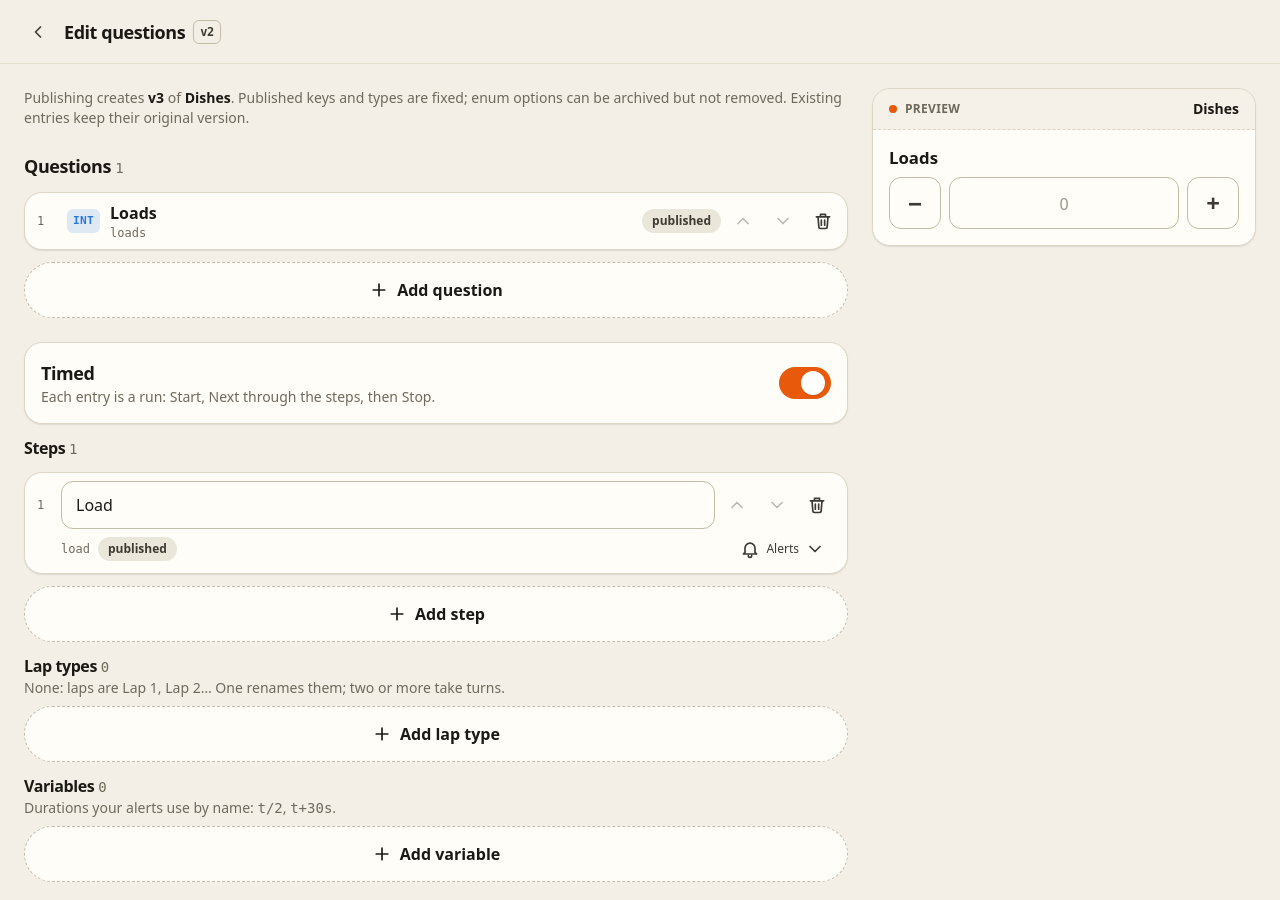
Test case: EditQuestionsPage publish › switching Timed off sends null, and back on restores the steps
This screenshot has width=1280, height=900.
What coordinates should you click on to do the following:
click the switch named "Timed"
I would click on:
 (805, 383)
Its box is [779, 367, 831, 399].
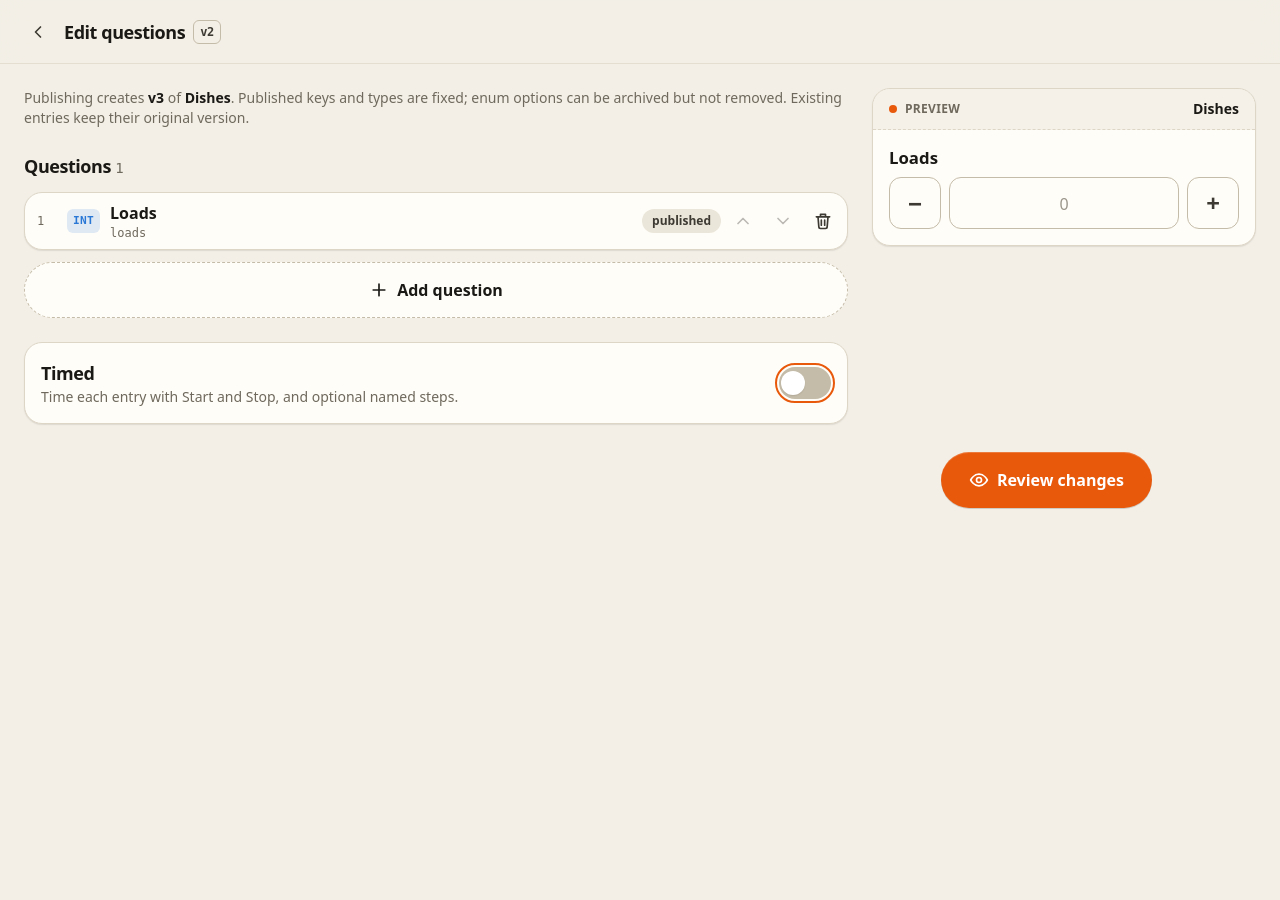
What coordinates should you click on to do the following:
click the switch named "Timed"
I would click on:
 (805, 383)
Its box is [779, 367, 831, 399].
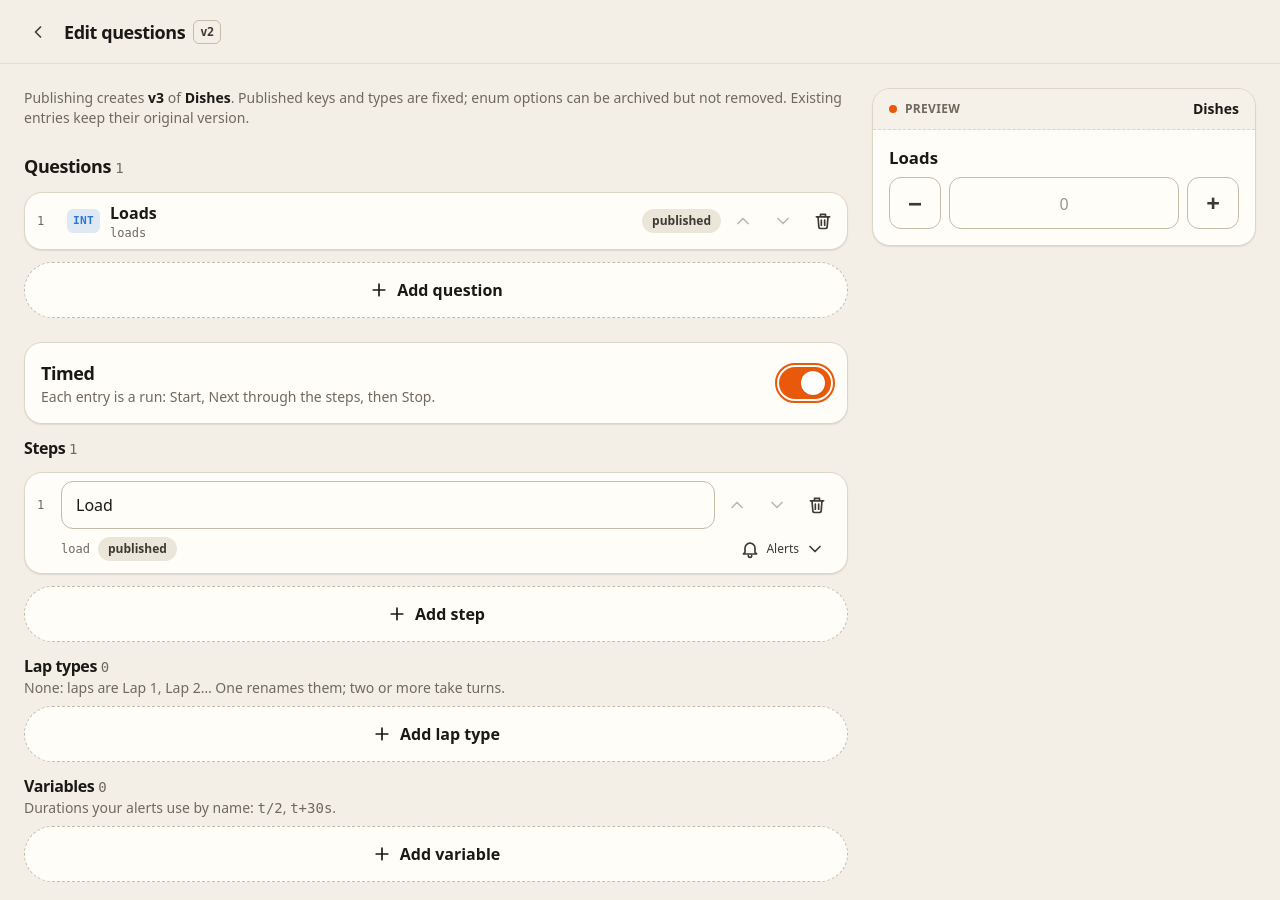
Check: the field named "Step 1 name" holds "Load", box [61, 481, 715, 529]
What coordinates should you click on to do the following:
click the switch named "Timed"
I would click on:
 (805, 383)
Its box is [779, 367, 831, 399].
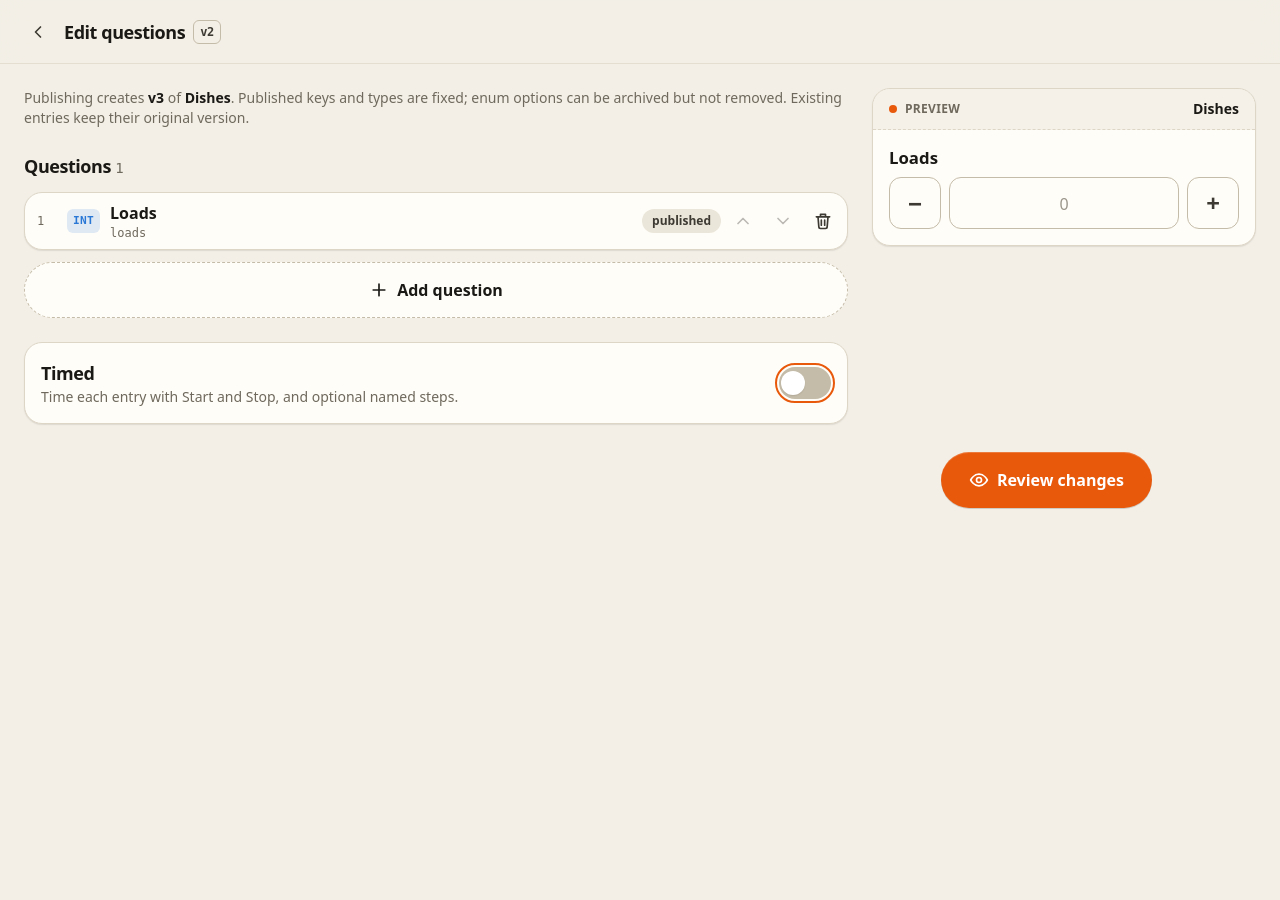
What coordinates should you click on to do the following:
click the button "Review changes"
I would click on:
 (1046, 480)
Its box is [941, 452, 1152, 508].
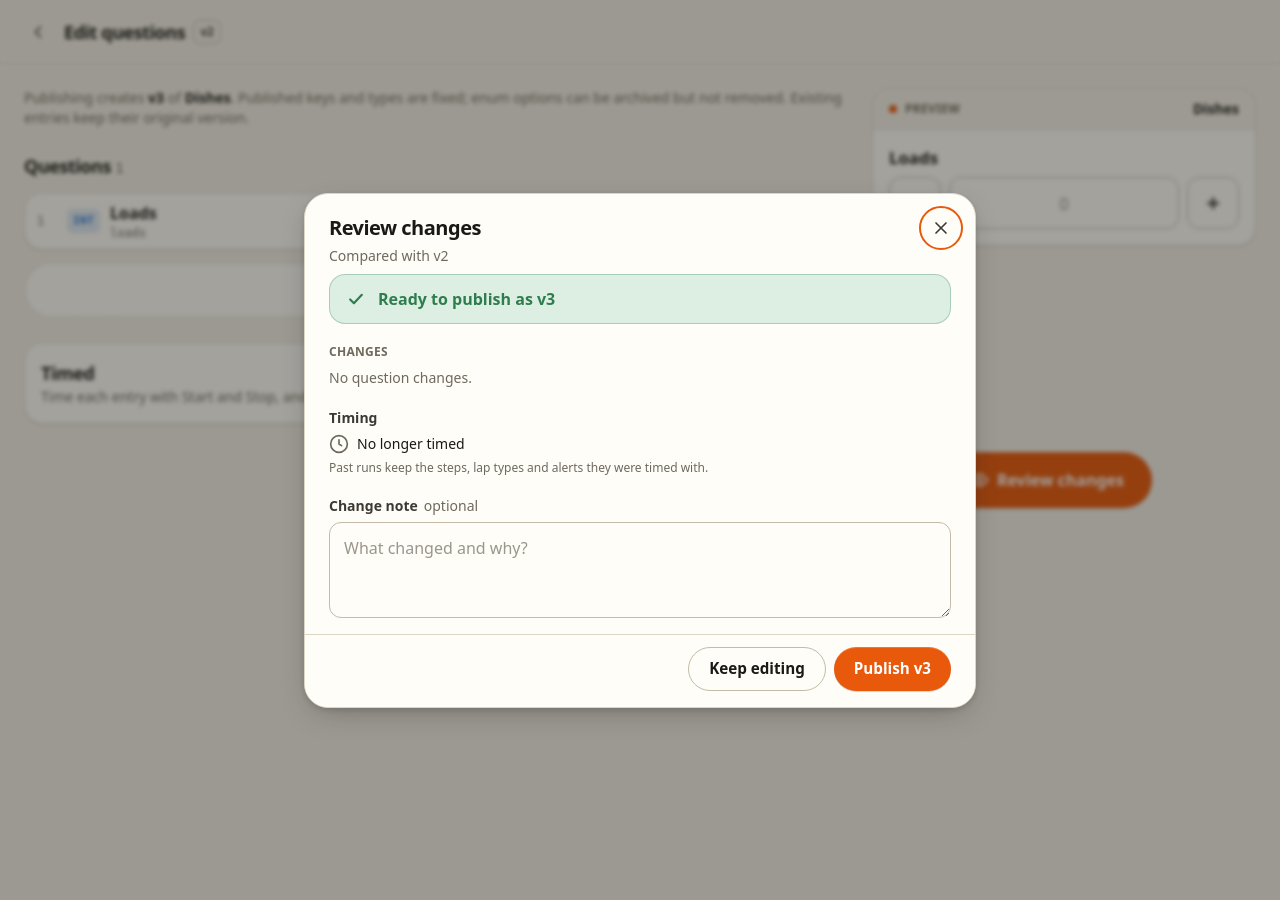
What coordinates should you click on to do the following:
click the button "Publish v3"
I would click on:
 (892, 668)
Its box is [834, 646, 951, 690].
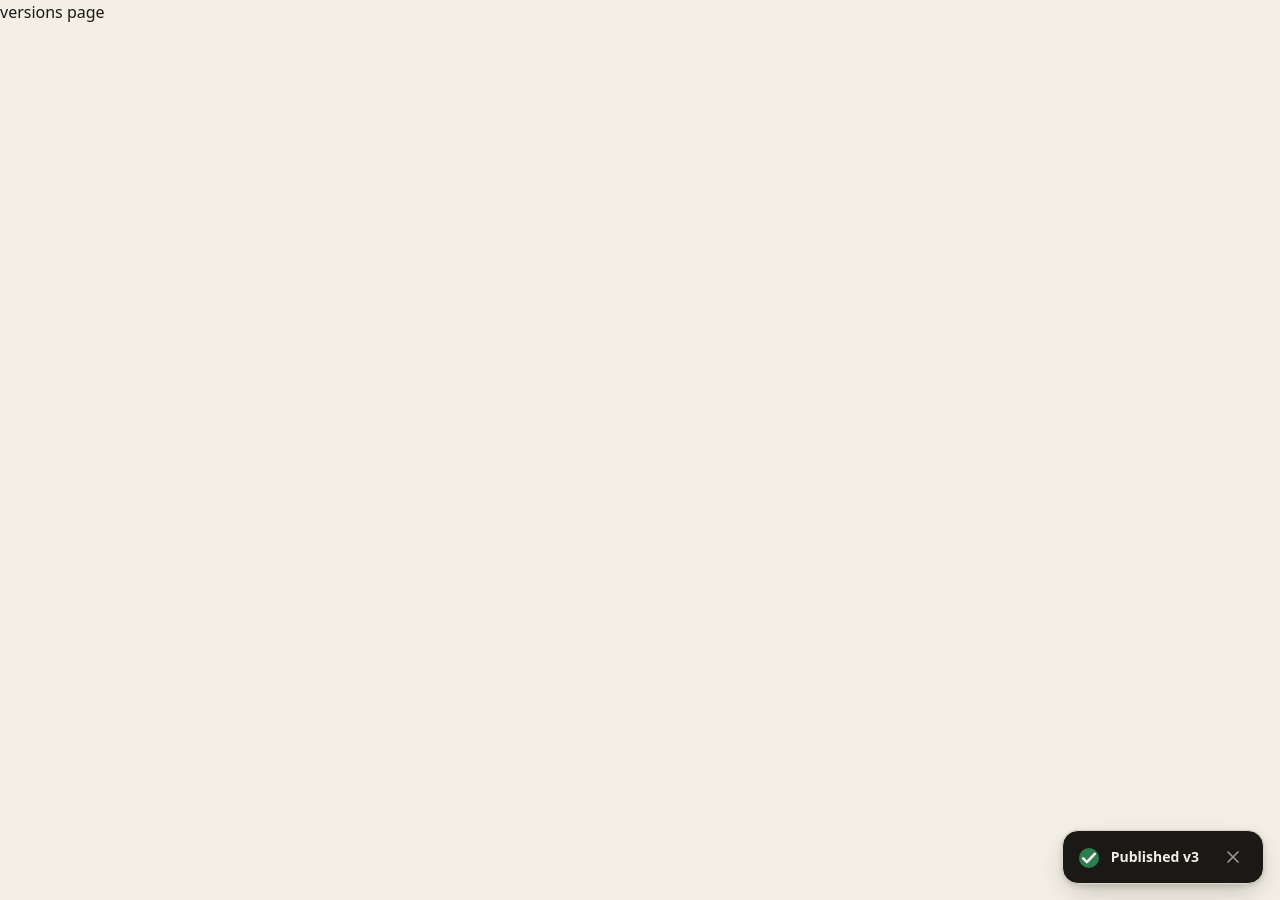
Check: the text "versions page" is shown, box [0, 1, 105, 23]
